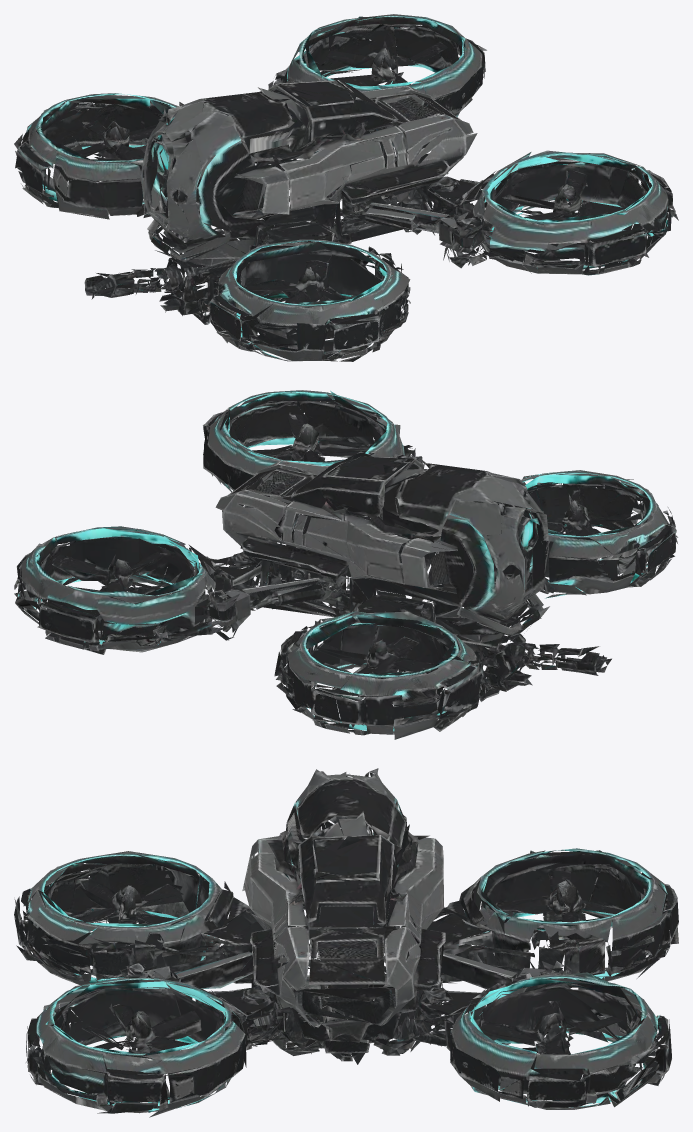
File: enemy_drone.glb
3 renders of one model, top to bottom at view 1: azimuth 30°, elevation 25°; view 2: azimuth 150°, elevation 25°; view 3: azimuth 270°, elevation 25°, orthographic. The views are drawn at different scales.
Visible parts, largest first — view 1: body; view 2: body; view 3: body.
Boxes of the visible parts, box(x1,y1,x2,y2) form: body: box(14, 14, 678, 361); body: box(14, 390, 677, 739); body: box(14, 768, 678, 1117).
Size of the model in its own units: 0.5721 by 0.2563 by 0.6034.
Materials: 1 (1 with a texture image).
